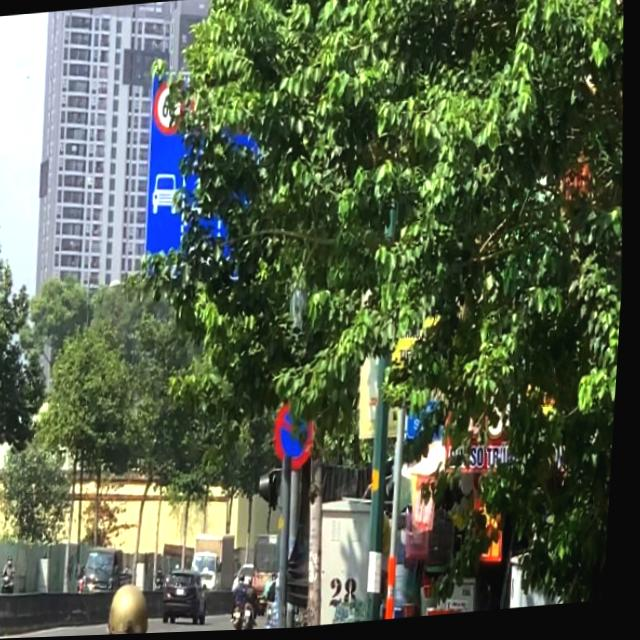Cam do xe: (276, 397, 323, 473)
Toc do toi da cho phep: (152, 81, 188, 140)
